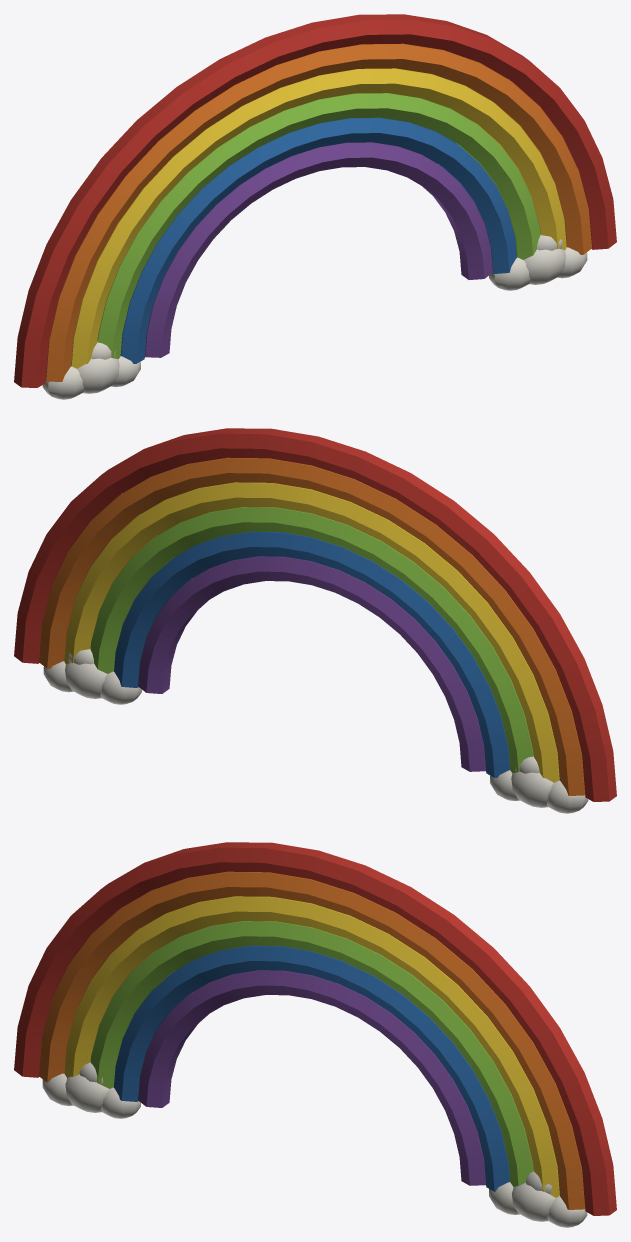
The model's file is 397_arc_en_ciel.fbx.
3 renders of one model, top to bottom at view 1: azimuth 30°, elevation 25°; view 2: azimuth 150°, elevation 25°; view 3: azimuth 330°, elevation 25°, orthographic.
Visible parts, largest first — view 1: Arc; view 2: Arc; view 3: Arc.
Boxes of the visible parts, x1,y1,x2,y2 form: Arc: (14,14,616,399); Arc: (14,428,616,813); Arc: (14,842,616,1227).
Size of the model in its own units: 16.8 by 8.4 by 1.12.
1 material, 1 textured.
